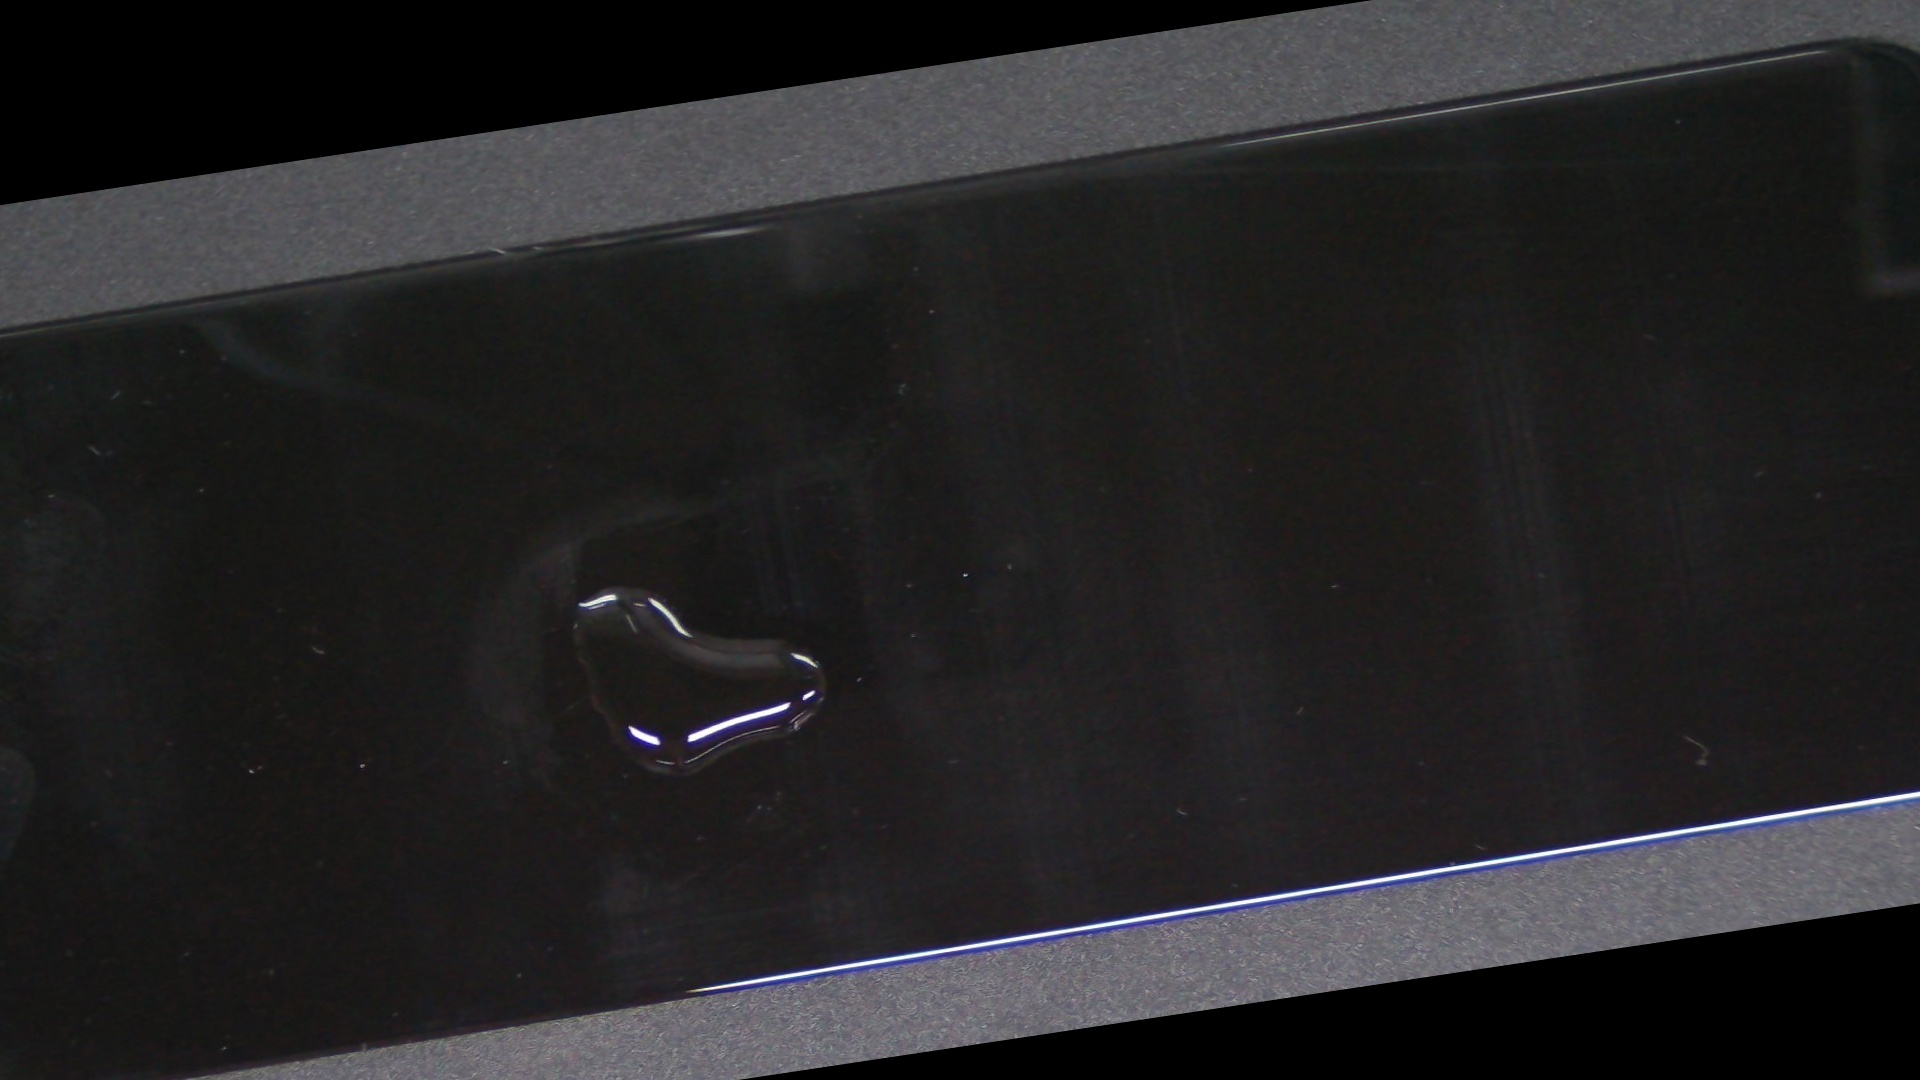oil: (173, 294, 1056, 878)
